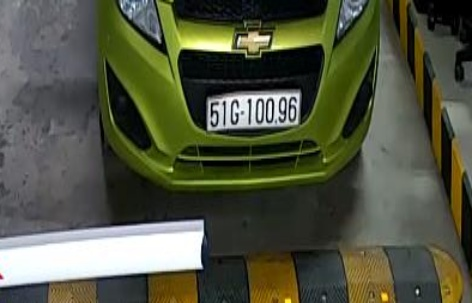plate: (204, 90, 304, 133)
